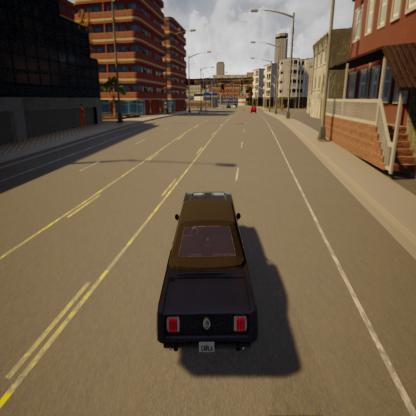Cars: (150, 183, 259, 351)
Pedestrian: (76, 101, 88, 140)
